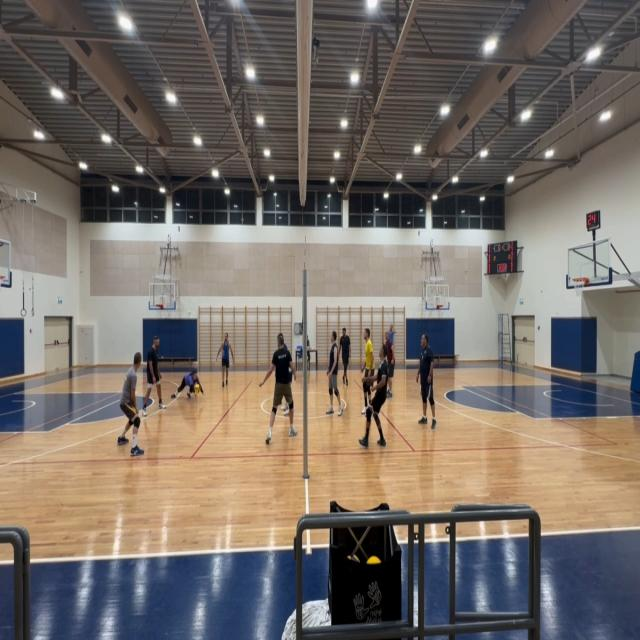volleyball: (195, 384, 200, 394)
